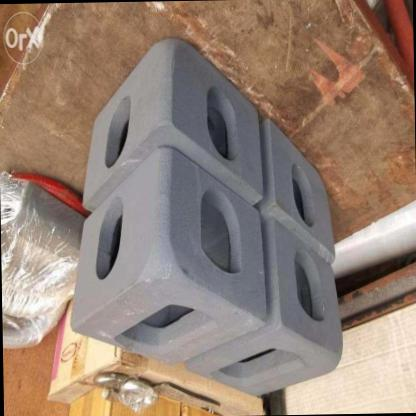CornerCasting: (69, 157, 264, 364), (63, 37, 260, 208), (188, 226, 350, 398), (251, 134, 359, 265)
